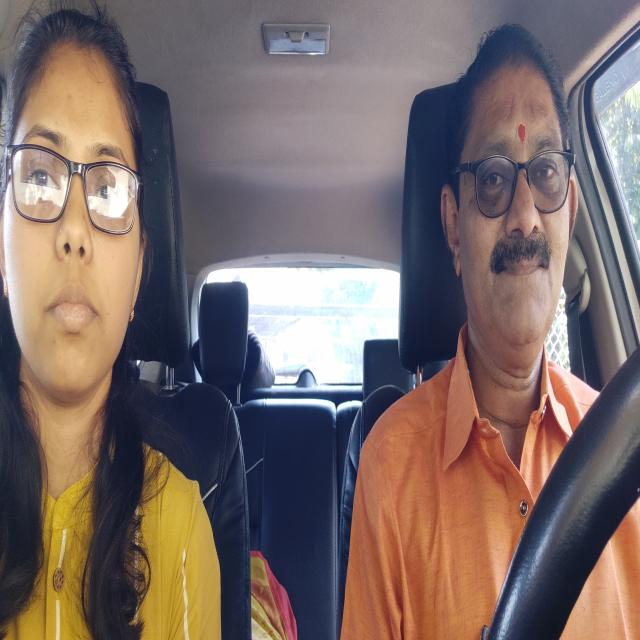person: (4, 22, 147, 390), (439, 42, 582, 382)
